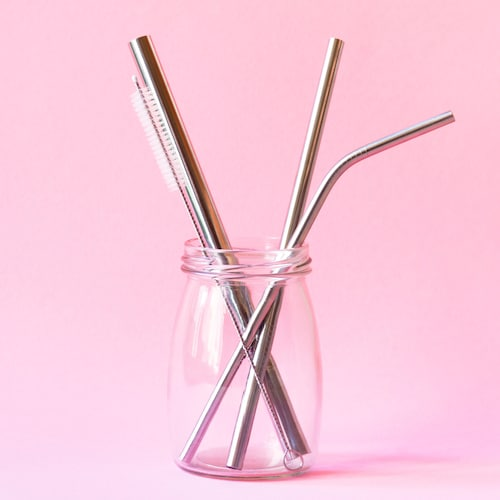Drinking Straw: (223, 34, 348, 473)
